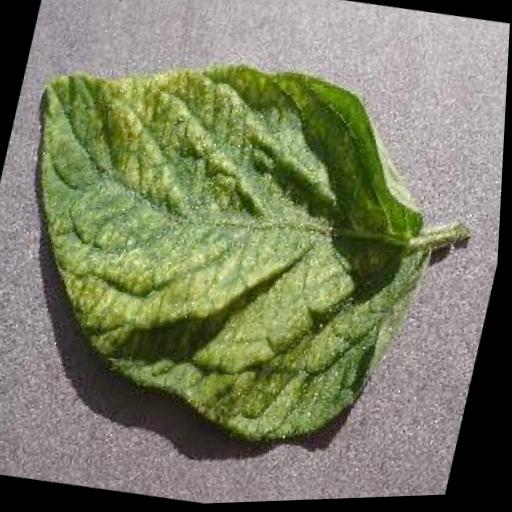Spider Mites: (0, 26, 464, 469)
